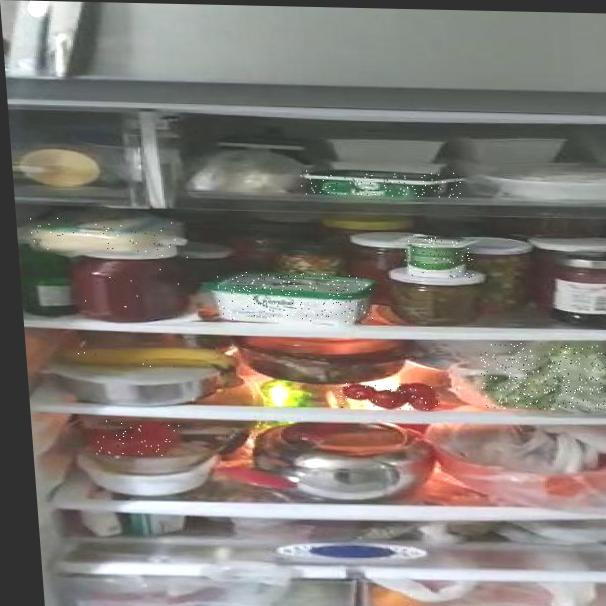banana: (60, 347, 241, 373)
cheese: (216, 271, 373, 324), (29, 216, 186, 254)
cream cheese: (299, 170, 462, 198)
lettuce: (478, 341, 606, 411)
orange: (369, 587, 427, 606)
tomato: (89, 419, 184, 456), (340, 383, 440, 410)
tomato paste: (66, 252, 195, 321)
yoghurt: (401, 235, 475, 278)
